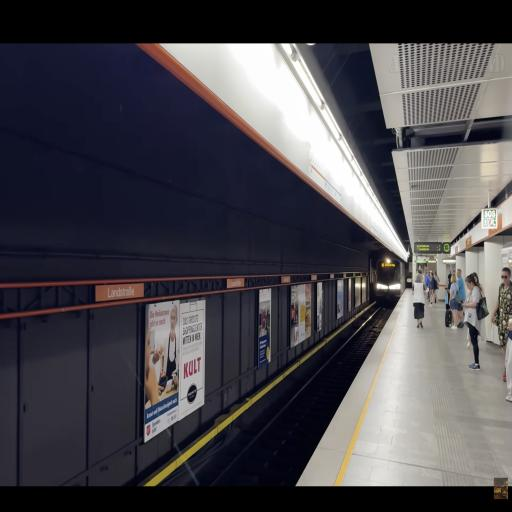V-Wagen: (374, 249, 408, 308)
